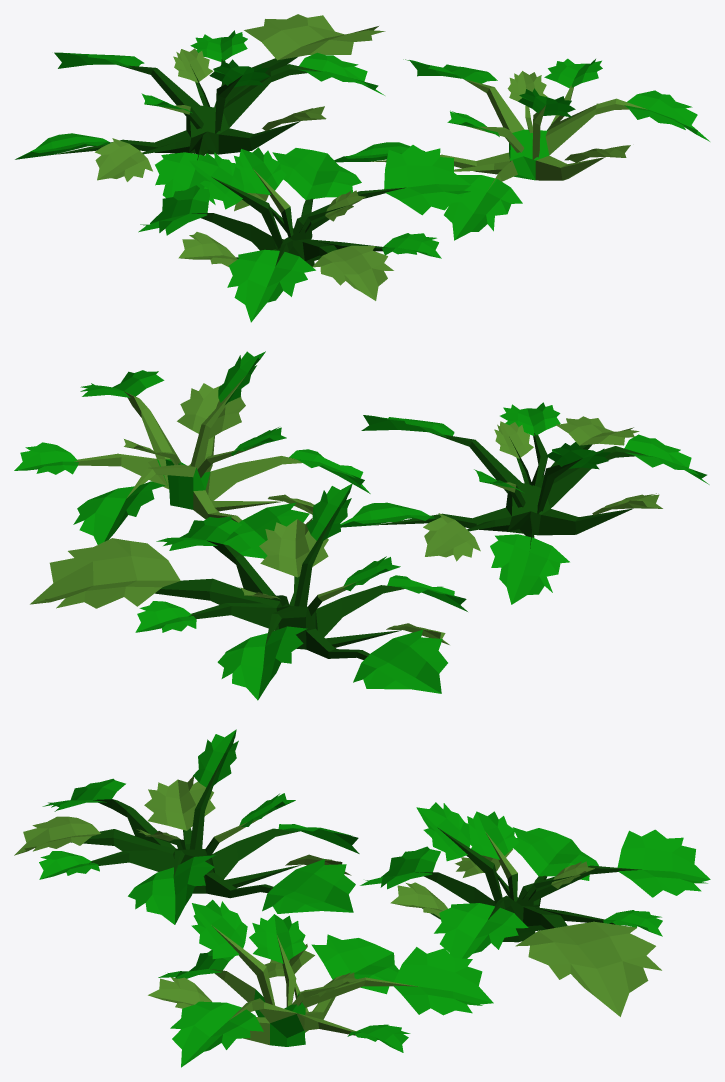
File: strawberry_1.glb
3 views of the same model, one above another, from view 1: azimuth 30°, elevation 25°; view 2: azimuth 150°, elevation 25°; view 3: azimuth 270°, elevation 25° (orthographic). The views are drawn at different scales.
Visible parts, largest first — view 1: strawberry_1; view 2: strawberry_1; view 3: strawberry_1.
Part boxes in pixels (bbox=[...]): strawberry_1: bbox=[15, 14, 709, 322]; strawberry_1: bbox=[14, 351, 709, 700]; strawberry_1: bbox=[14, 729, 710, 1067].
Size of the model in its own units: 2.32 by 0.5253 by 2.5.
